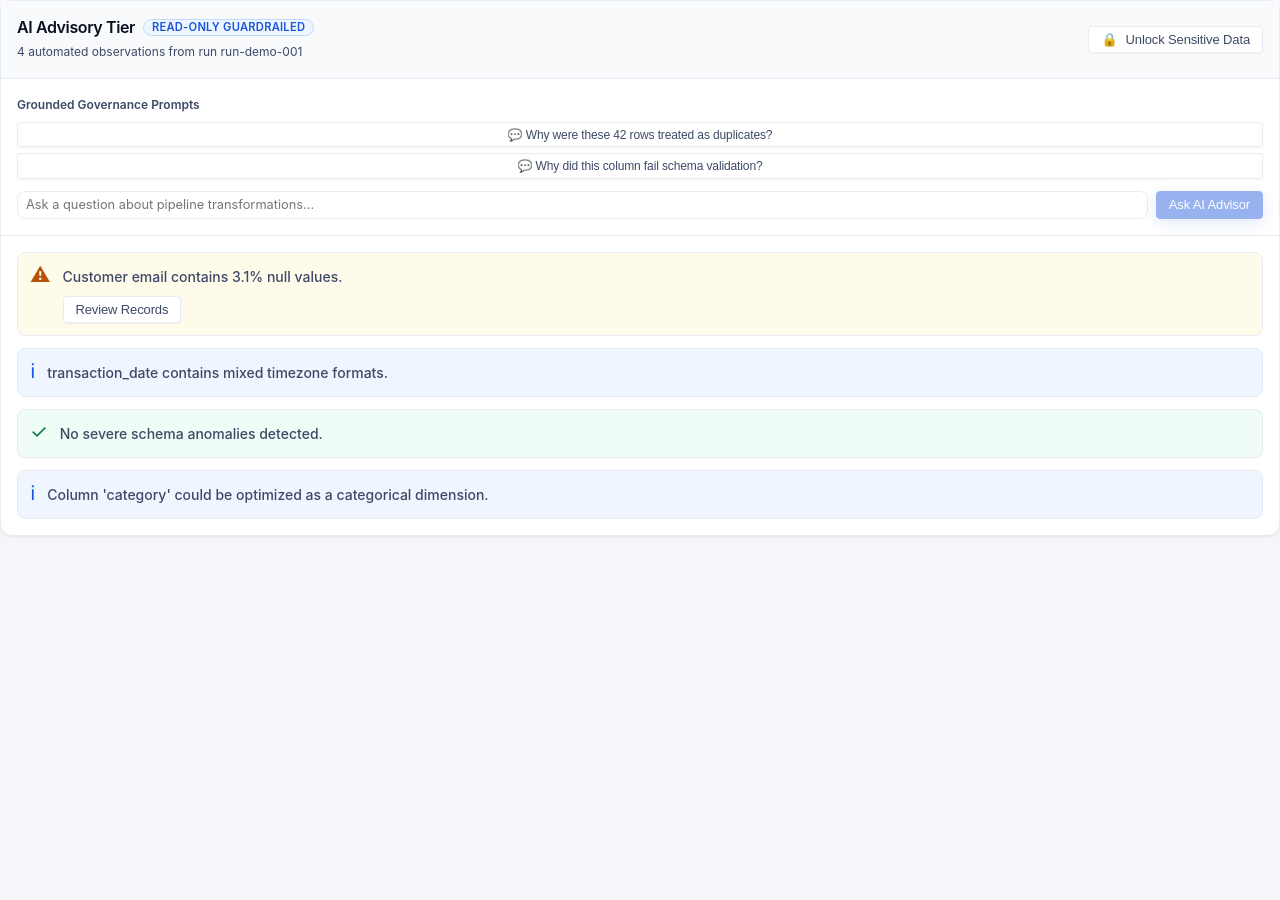
Test: AdvisoryPanel Component › allows submitting custom question via input field
The width and height of the screenshot is (1280, 900).
Step 1. Type "Can you explain the Silver stage?" into the field with placeholder "Ask a question about pipeline transformations..." → (582, 205), box [17,191,1148,219]
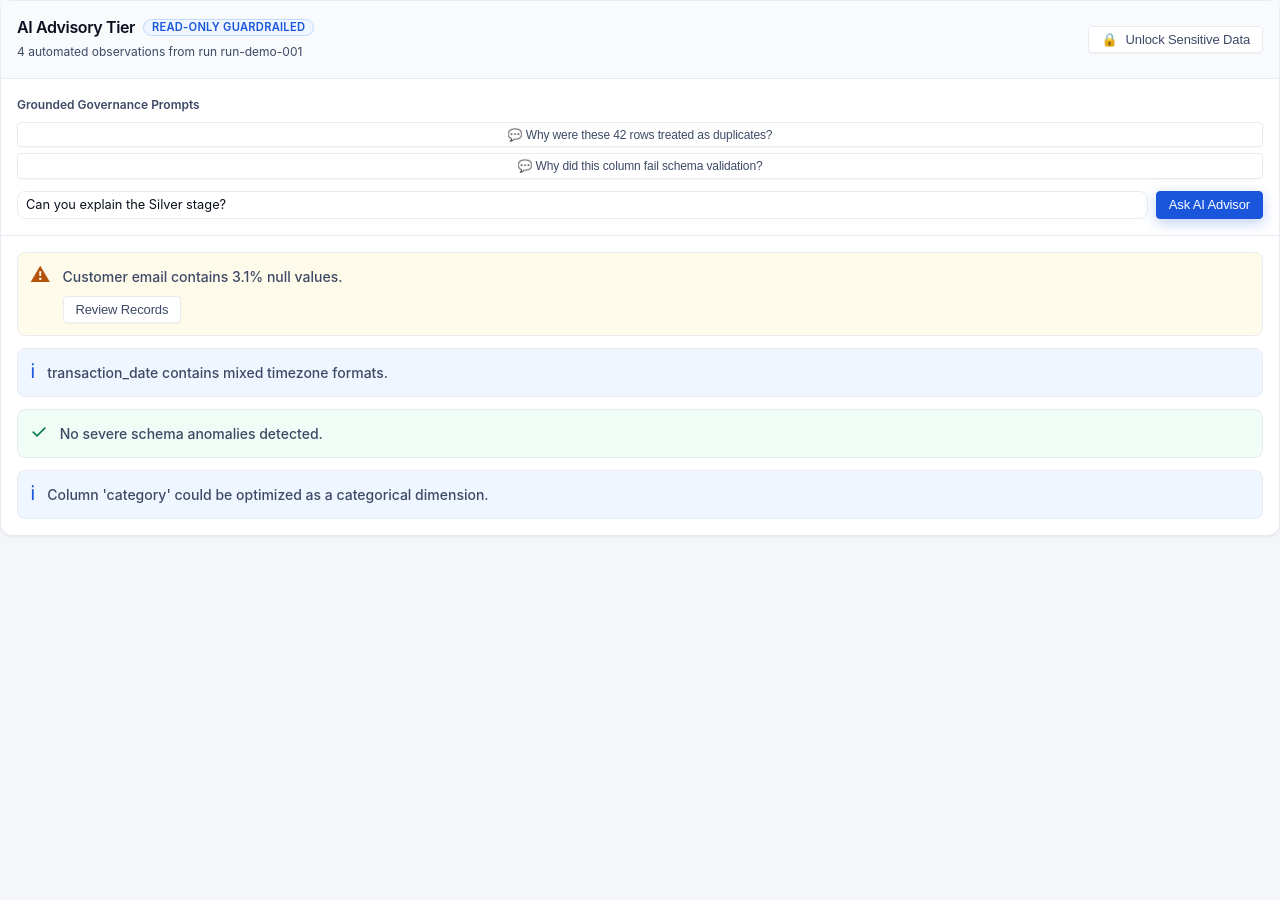
Step 2. Click the button "Ask AI Advisor" → (1209, 205), box [1156,191,1263,219]
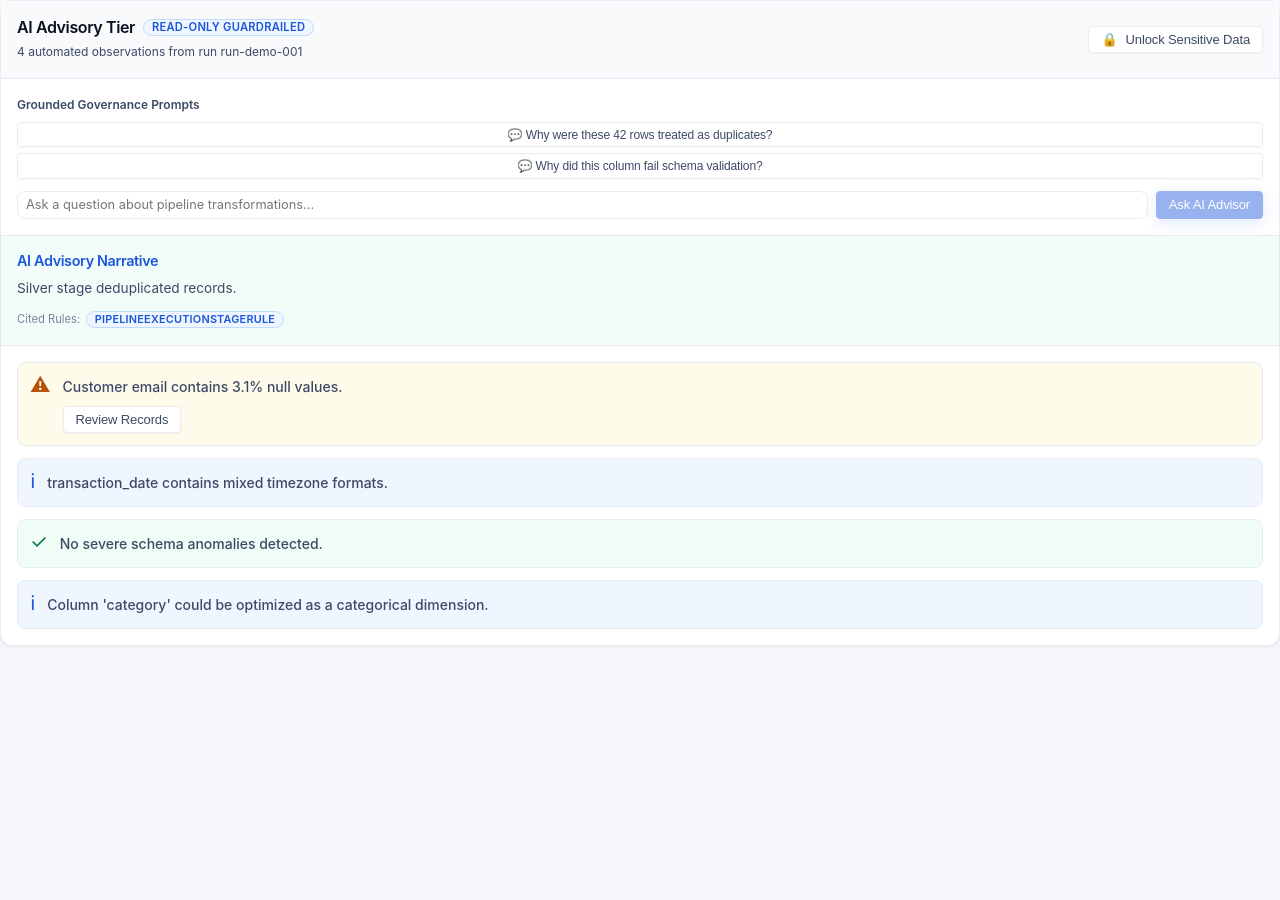
Now the text "Silver stage deduplicated records." is shown, box [17,280,236,296]
Now the text "PipelineExecutionStageRule" is shown, box [86,311,284,328]
